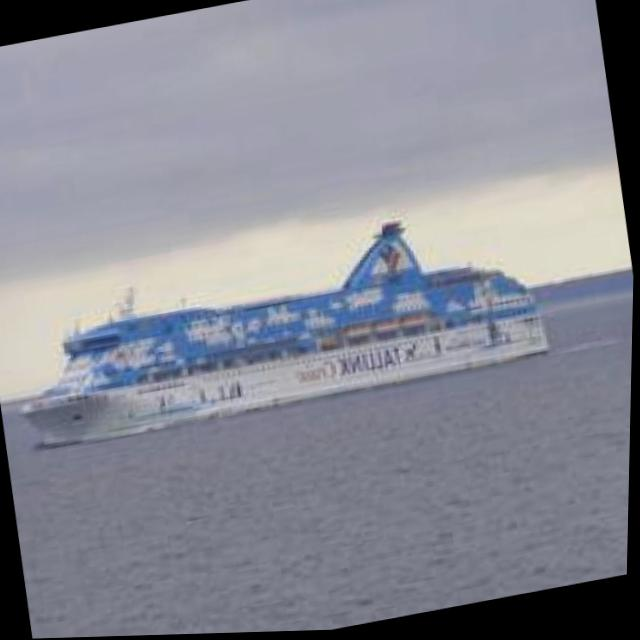ship2: (21, 224, 554, 450)
